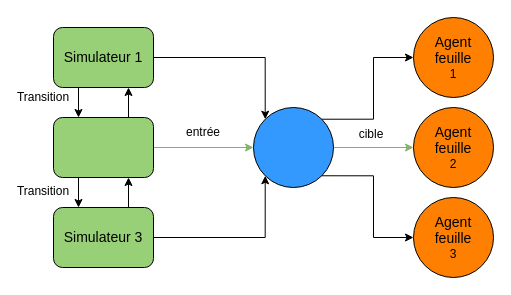
This 511x295 diagram has some shape labels left out. The centre of each missing label's shape, as x and y in pixels:
"Agent père" belongs at pixel 293 147.
"Simulateur 2" belongs at pixel 103 147.
